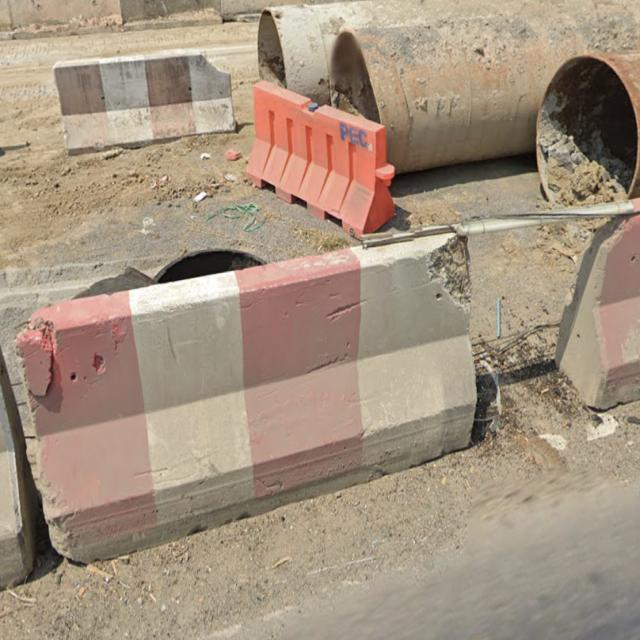fallen_object: (5, 227, 491, 557), (236, 79, 424, 250), (521, 188, 640, 436), (35, 49, 258, 164)
